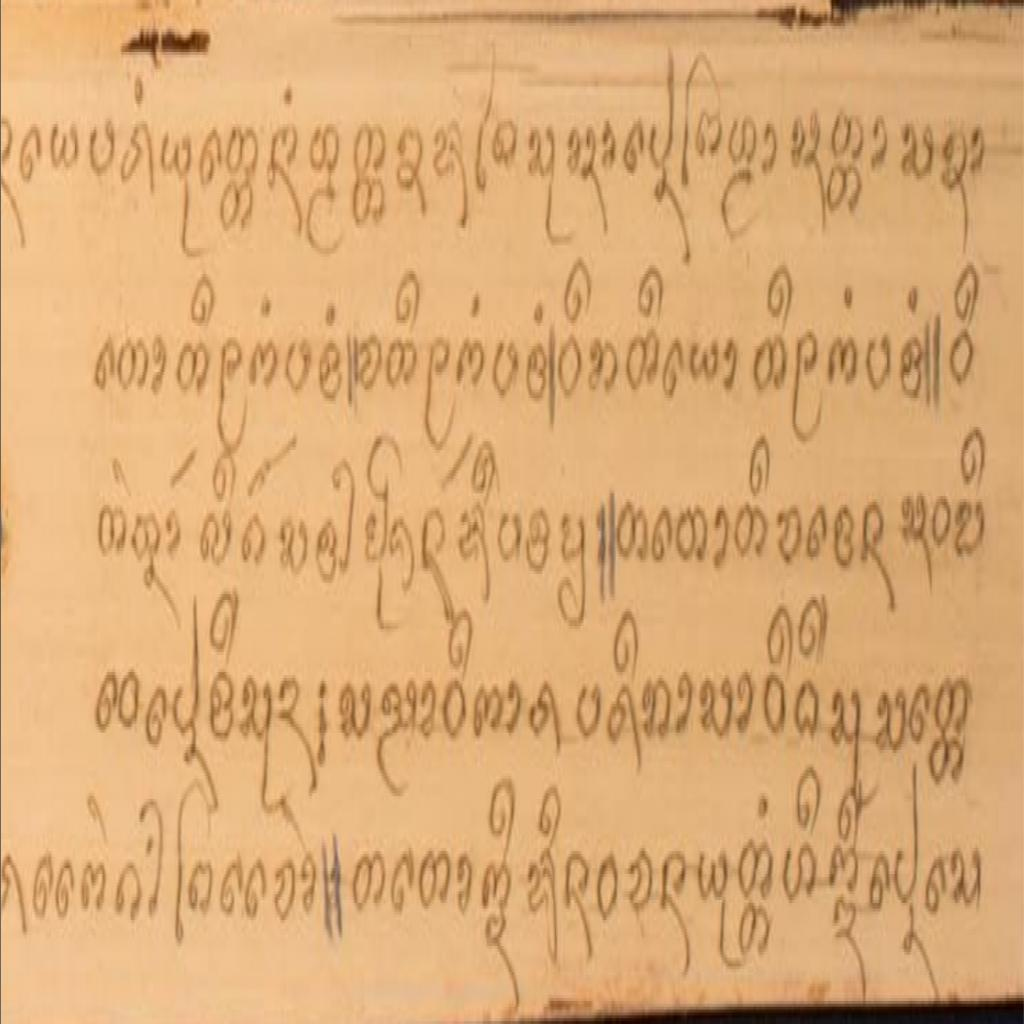LN027: (364, 431, 391, 568)
